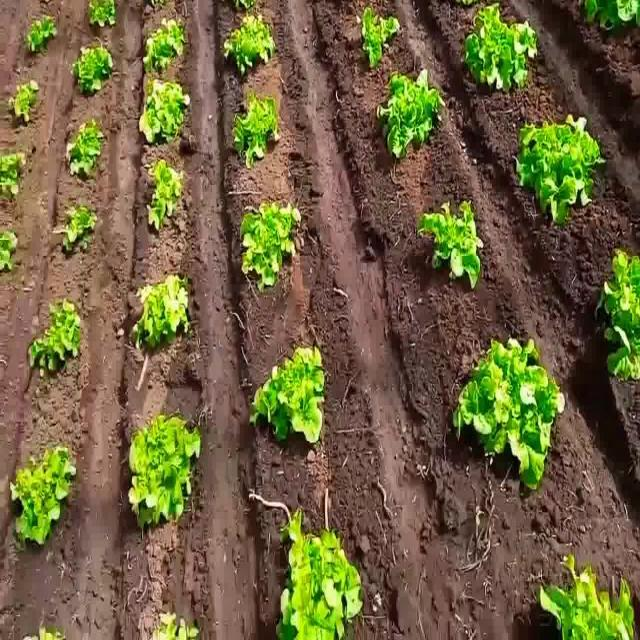Lettuce: (453, 332, 571, 492), (272, 503, 364, 640), (514, 115, 604, 228), (244, 344, 336, 447), (126, 419, 204, 531), (5, 445, 80, 551), (416, 195, 488, 298), (534, 572, 640, 639), (462, 5, 542, 91), (383, 66, 449, 169), (234, 205, 302, 291), (598, 246, 640, 383), (129, 272, 196, 351), (240, 201, 300, 289), (135, 75, 196, 150), (24, 302, 81, 374), (138, 156, 187, 235), (227, 100, 281, 162), (224, 12, 272, 76), (137, 15, 188, 73), (356, 1, 399, 66), (52, 200, 105, 252), (71, 42, 116, 96), (61, 124, 106, 178), (24, 12, 60, 56), (10, 80, 42, 128), (0, 145, 27, 201), (80, 0, 121, 26)
